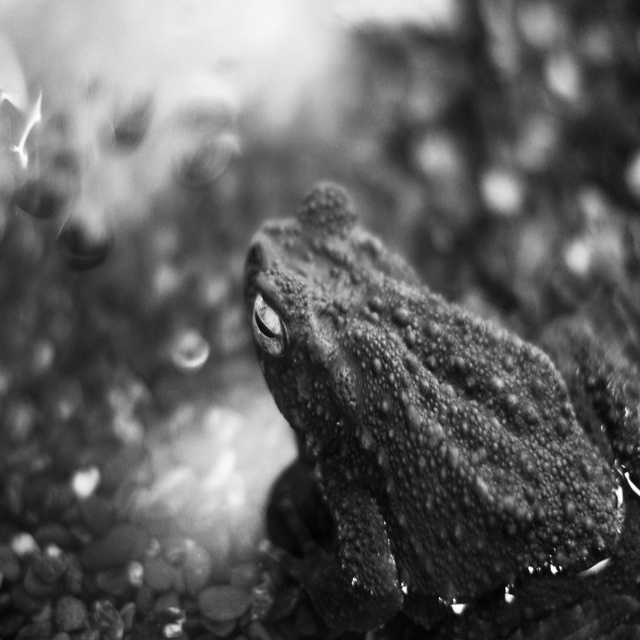Frog: (239, 178, 640, 639)
